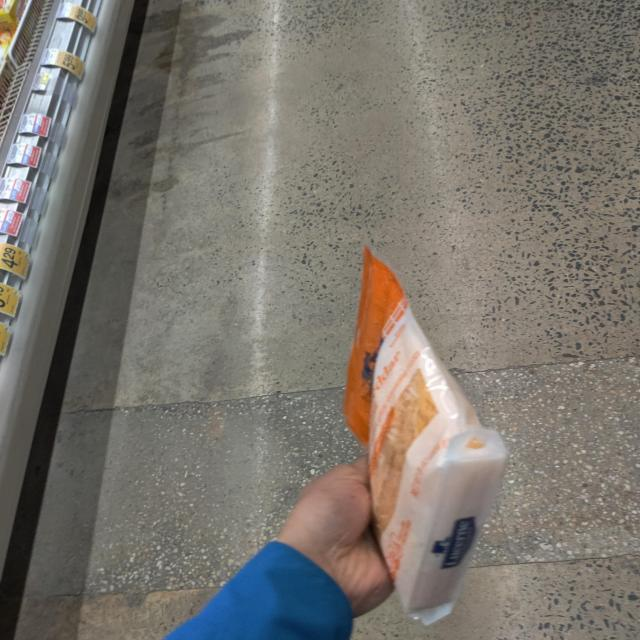Cheese: (334, 260, 507, 626)
